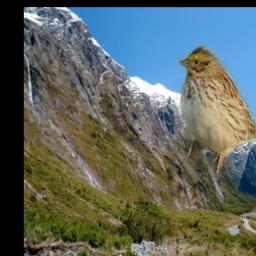Sparrow: (176, 43, 256, 173)
